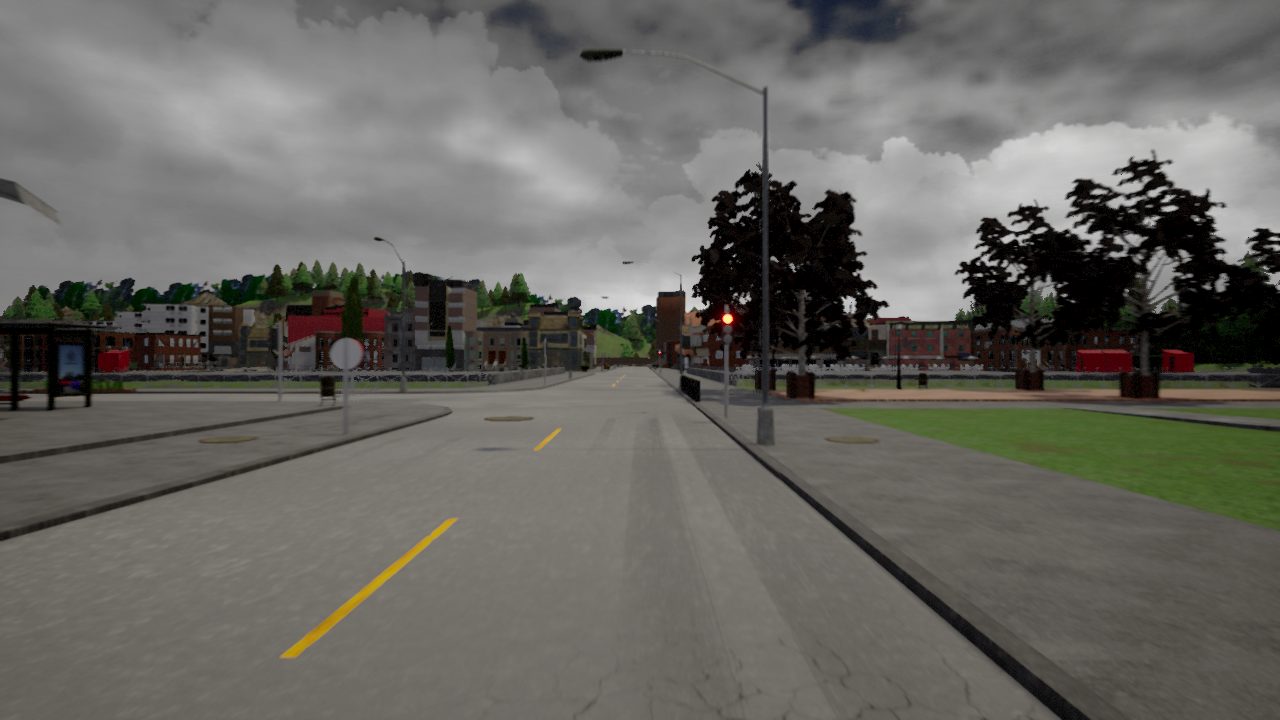red: (721, 313, 733, 346)
